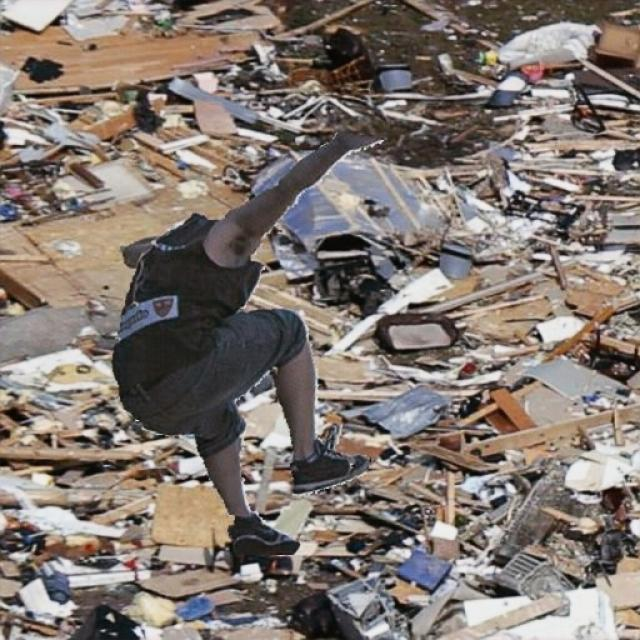Person in Rubble: (111, 131, 382, 554)
